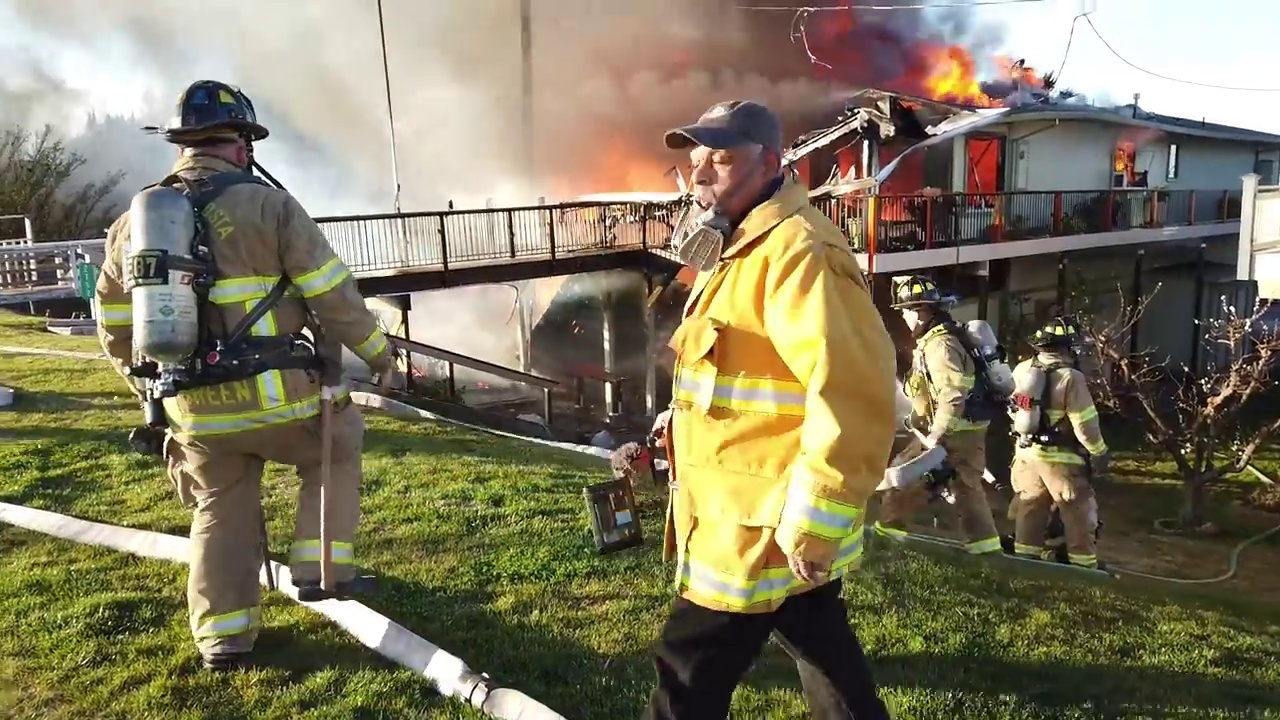fire: (546, 140, 688, 192), (918, 41, 1003, 106), (991, 45, 1046, 88), (964, 138, 1002, 195), (1115, 139, 1139, 169)
smoke: (176, 4, 827, 94), (284, 97, 651, 202), (1, 2, 169, 204), (536, 278, 644, 378), (828, 1, 1014, 56), (414, 293, 521, 367)
